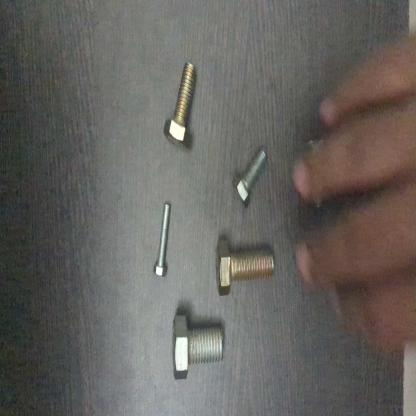Bolts: (155, 58, 213, 160), (204, 236, 282, 300), (160, 313, 226, 384), (221, 145, 278, 214), (150, 195, 178, 286)
